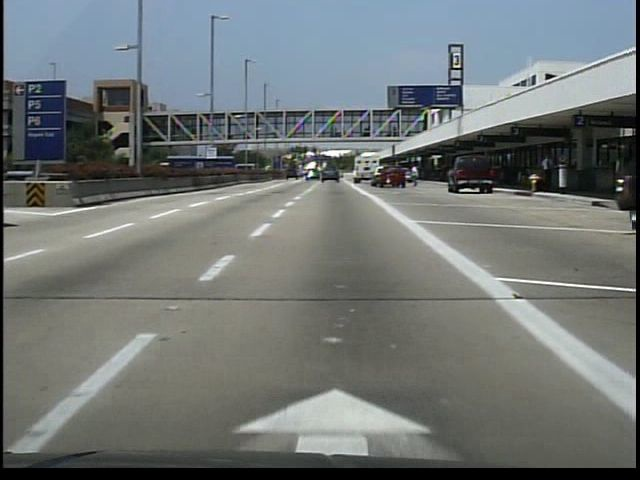person: (536, 154, 556, 197), (409, 168, 423, 190)
